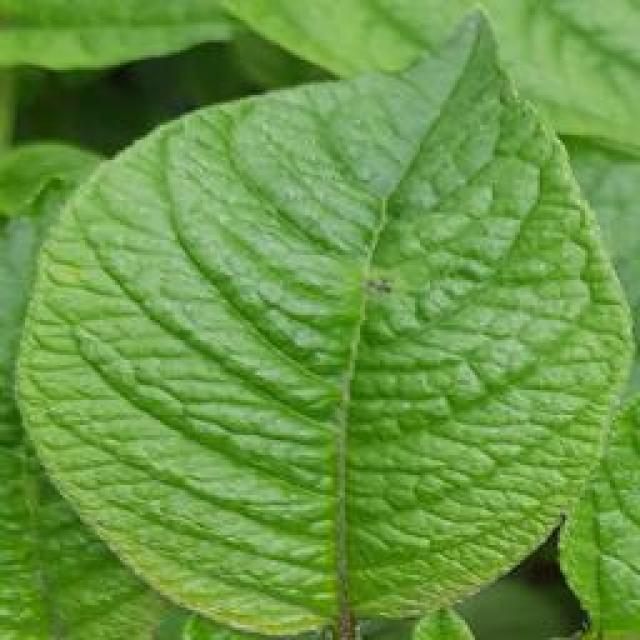healthy: (10, 8, 638, 638)
